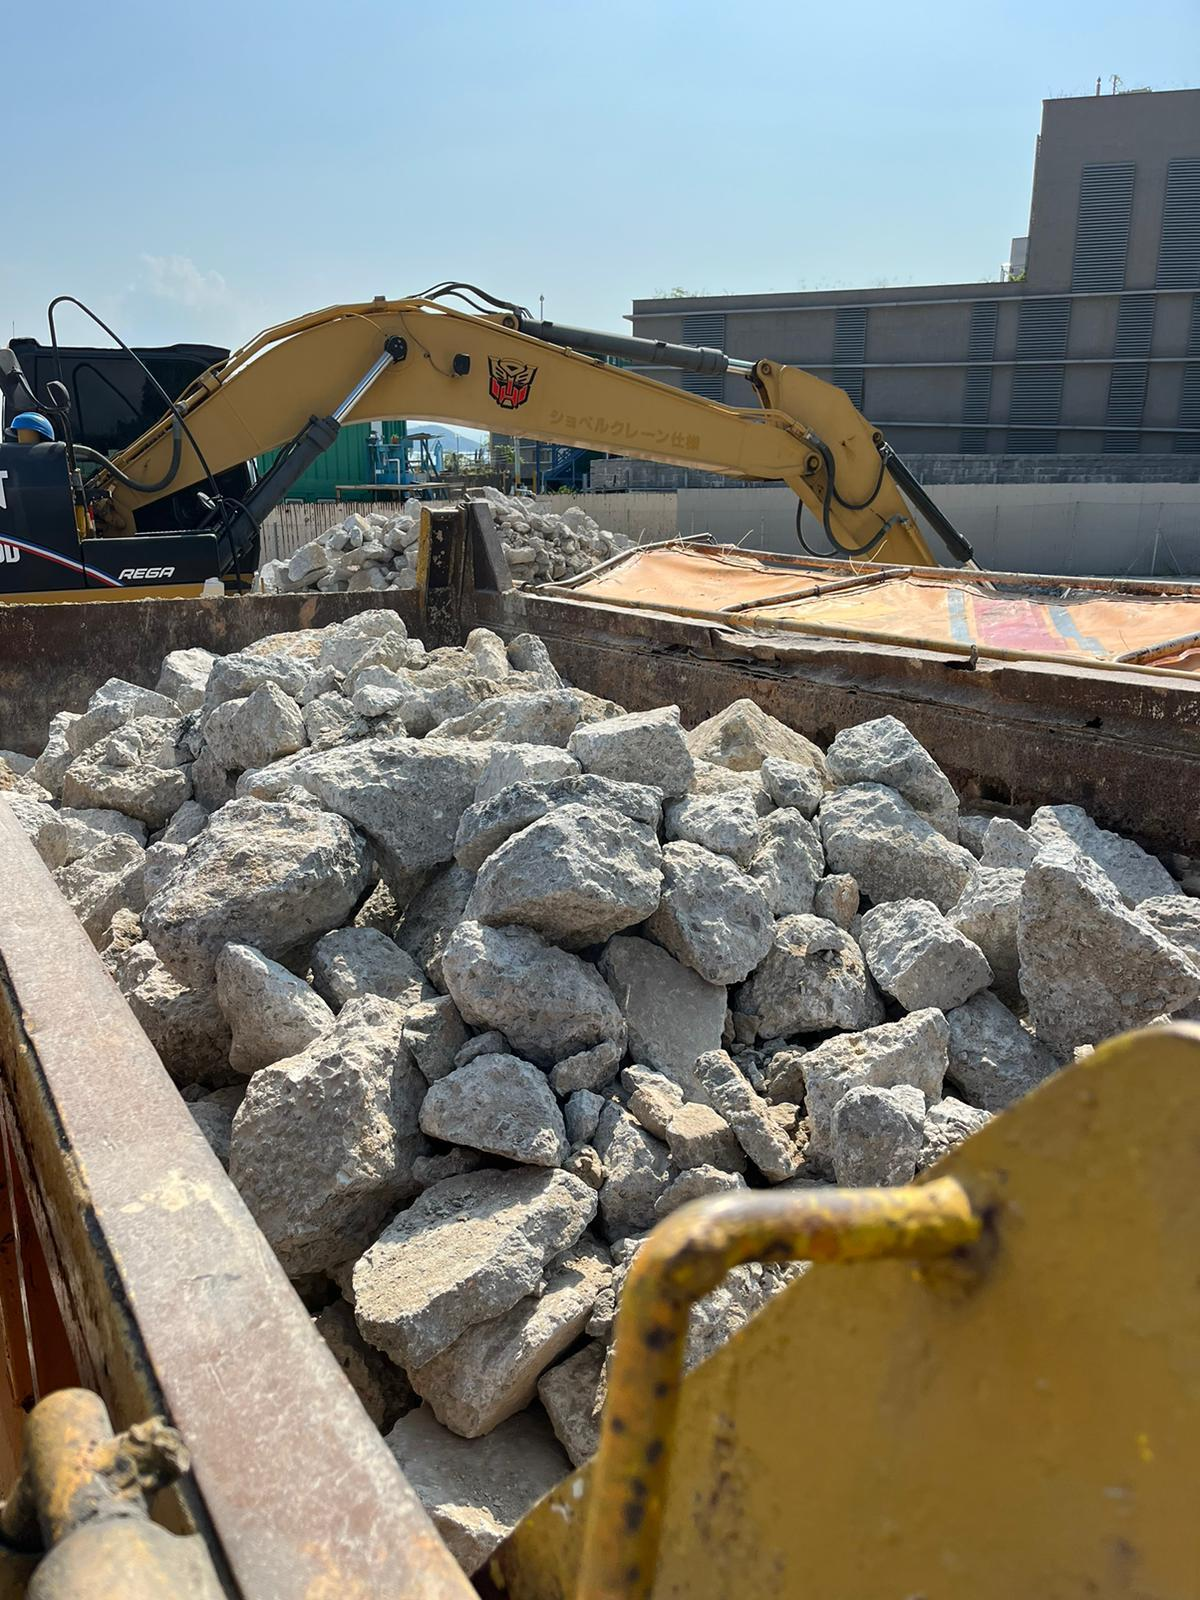dry: (18, 605, 1185, 1567)
